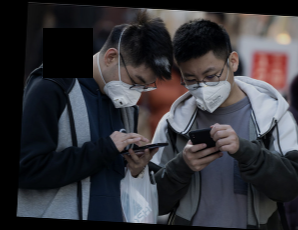with_mask: (180, 63, 234, 106), (103, 68, 149, 110)
